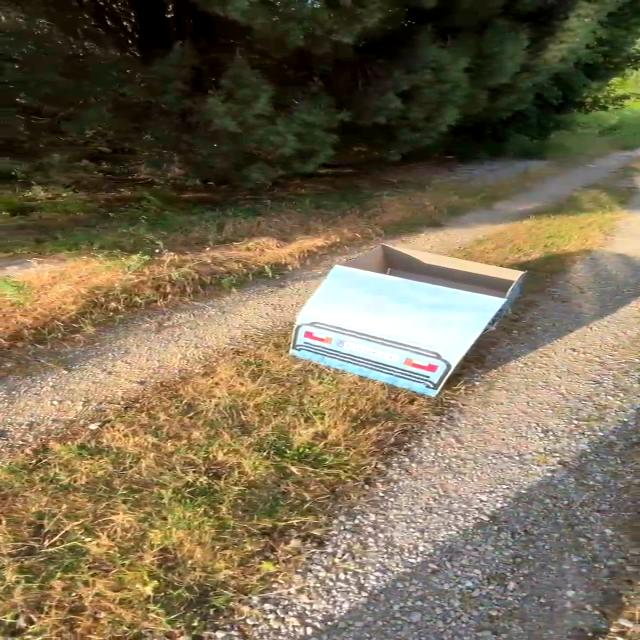blue_car: (258, 228, 559, 415)
